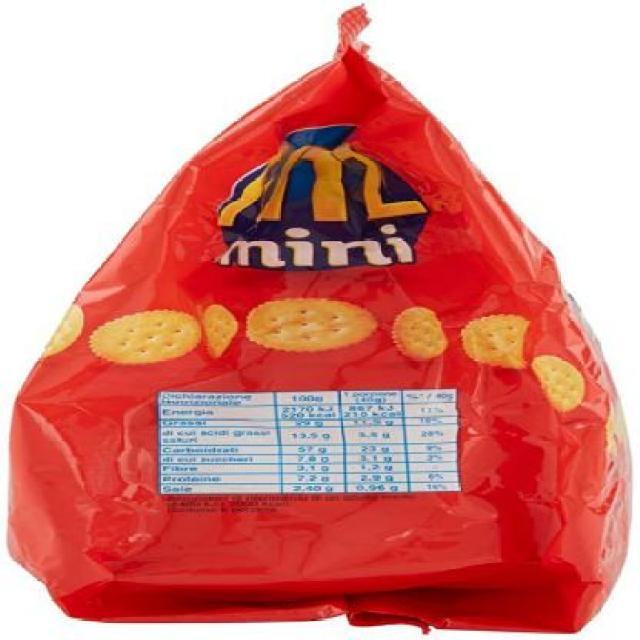Ritz cracker: (22, 3, 640, 626)
